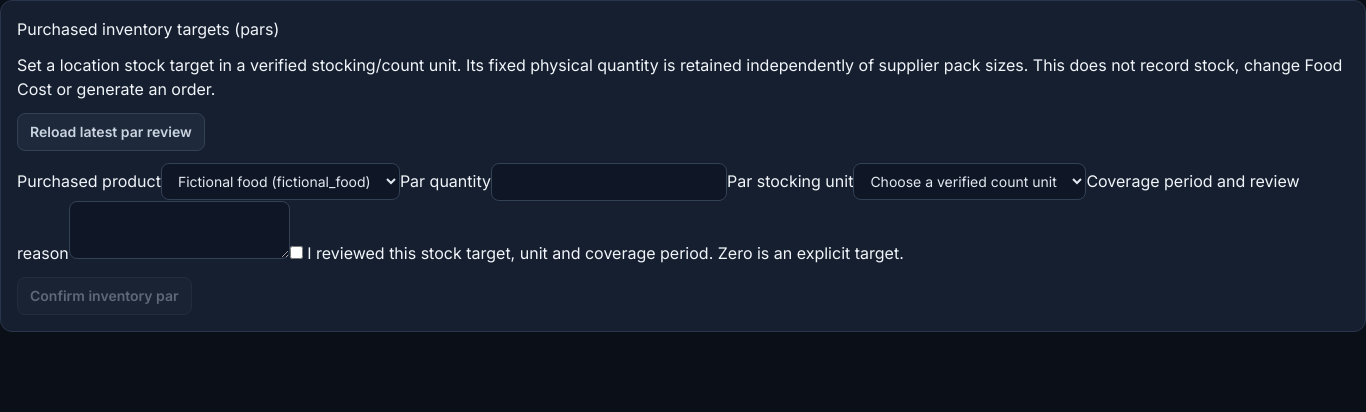
Test: legacy numbers stay unconfirmed and are not copied into a target
The width and height of the screenshot is (1366, 412).
Select "Fictional food (fictional_food)" in the dropdown named "Par product": [280, 182] box [161,163,400,200]
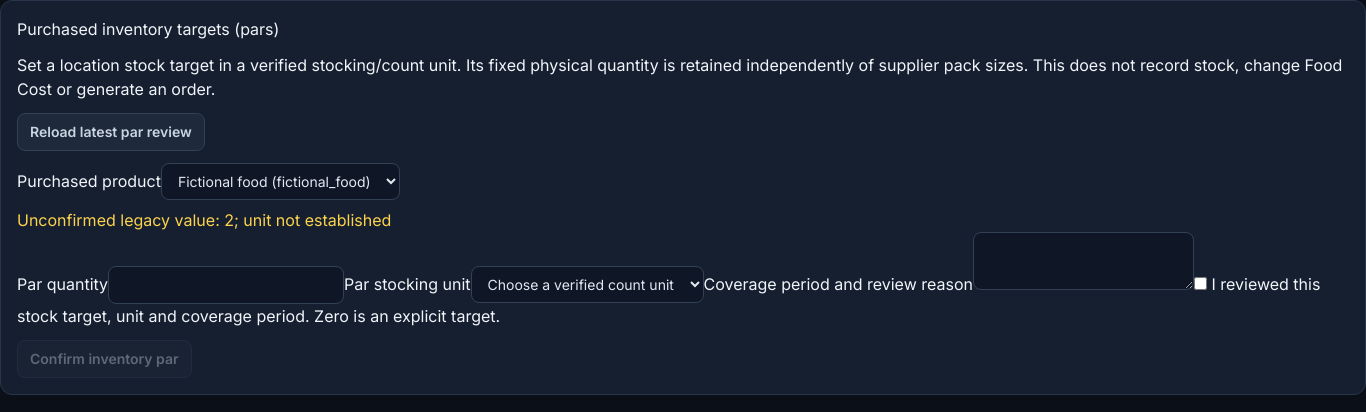
Expected: the field named "Par quantity" is empty, [108,266,344,304]
Expected: the text "Unconfirmed legacy value: 2; unit not established" is shown, [17,210,391,230]
